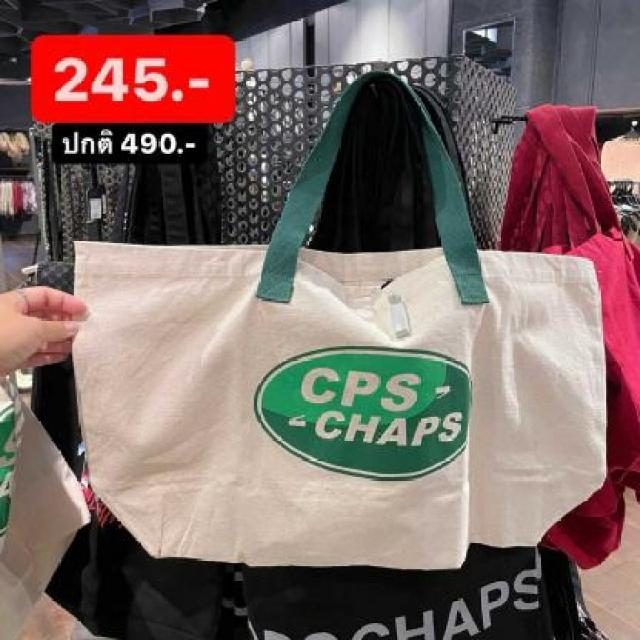Bag: (20, 67, 640, 640)
